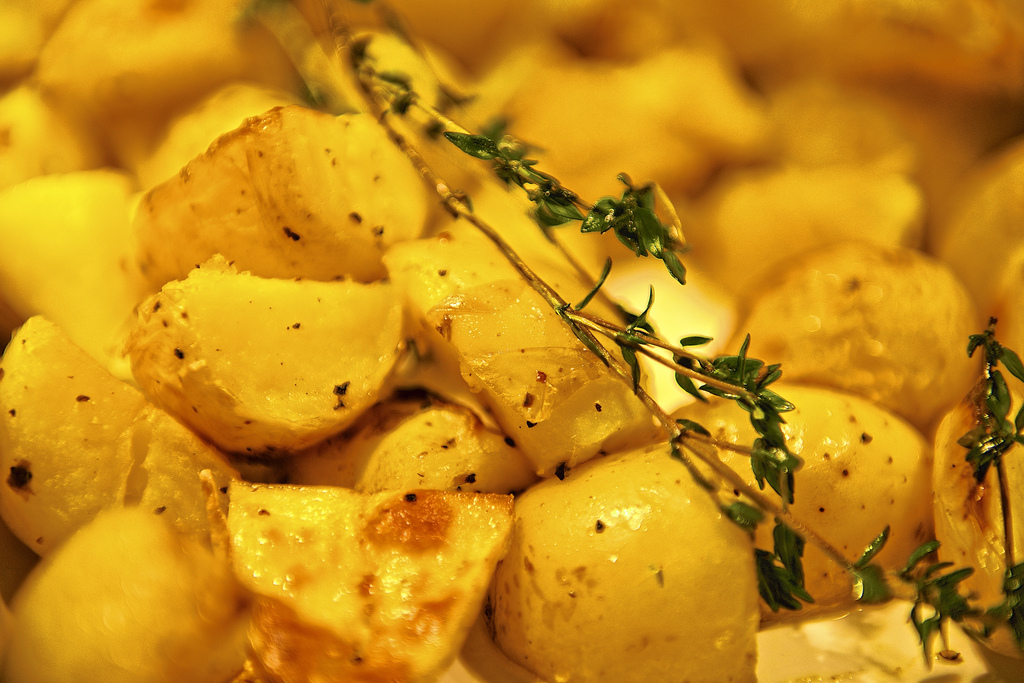boiled potatoes: (68, 53, 979, 664)
